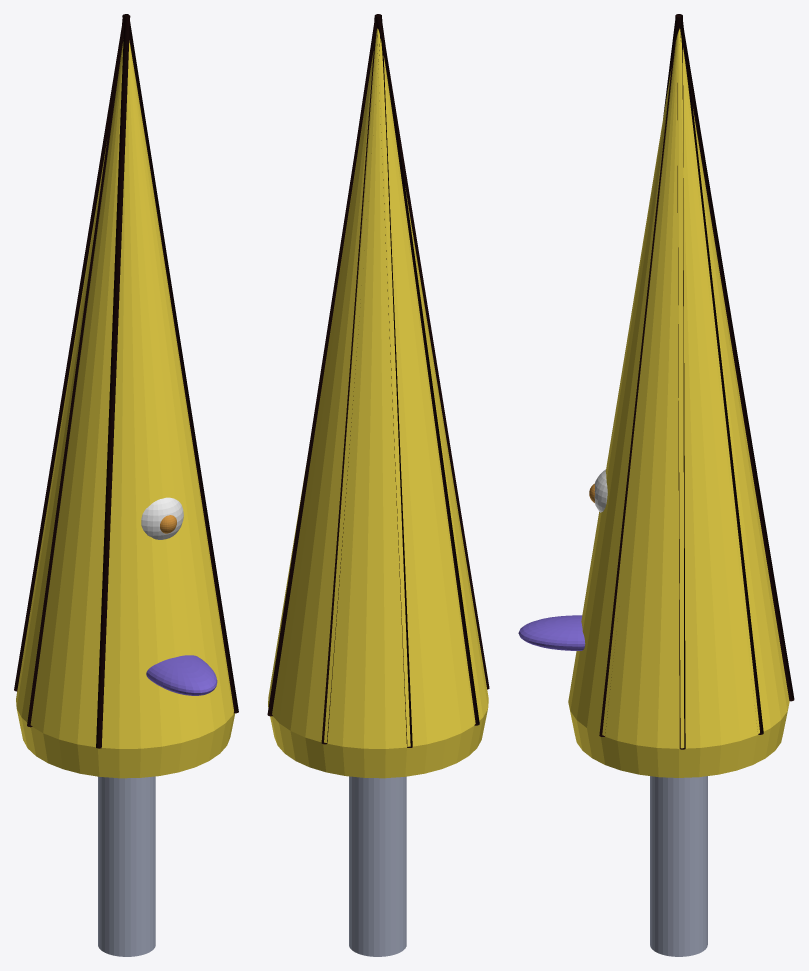
The model's file is KasaObake.fbx.
3 views of the same model, side by side, from view 1: azimuth 30°, elevation 25°; view 2: azimuth 150°, elevation 25°; view 3: azimuth 270°, elevation 25° (orthographic).
Parts seen in each view (by area): view 1: Cone, Cylinder.001, Cylinder, Sphere.002, Sphere; view 2: Cone, Cylinder.001, Cylinder; view 3: Cone, Cylinder, Cylinder.001, Sphere.002.
Boxes of the visible parts, left/top/right/bottom form: Cone: left=16, top=40, right=235, bottom=778; Cylinder.001: left=14, top=14, right=238, bottom=748; Cylinder: left=98, top=776, right=155, bottom=956; Sphere.002: left=146, top=655, right=217, bottom=695; Sphere: left=141, top=497, right=183, bottom=539; Cone: left=268, top=28, right=488, bottom=778; Cylinder.001: left=267, top=14, right=489, bottom=747; Cylinder: left=349, top=776, right=406, bottom=956; Cone: left=568, top=28, right=789, bottom=777; Cylinder: left=650, top=776, right=707, bottom=956; Cylinder.001: left=599, top=14, right=794, bottom=749; Sphere.002: left=518, top=615, right=585, bottom=650.
Size of the model in its own units: 199 by 885 by 238.
